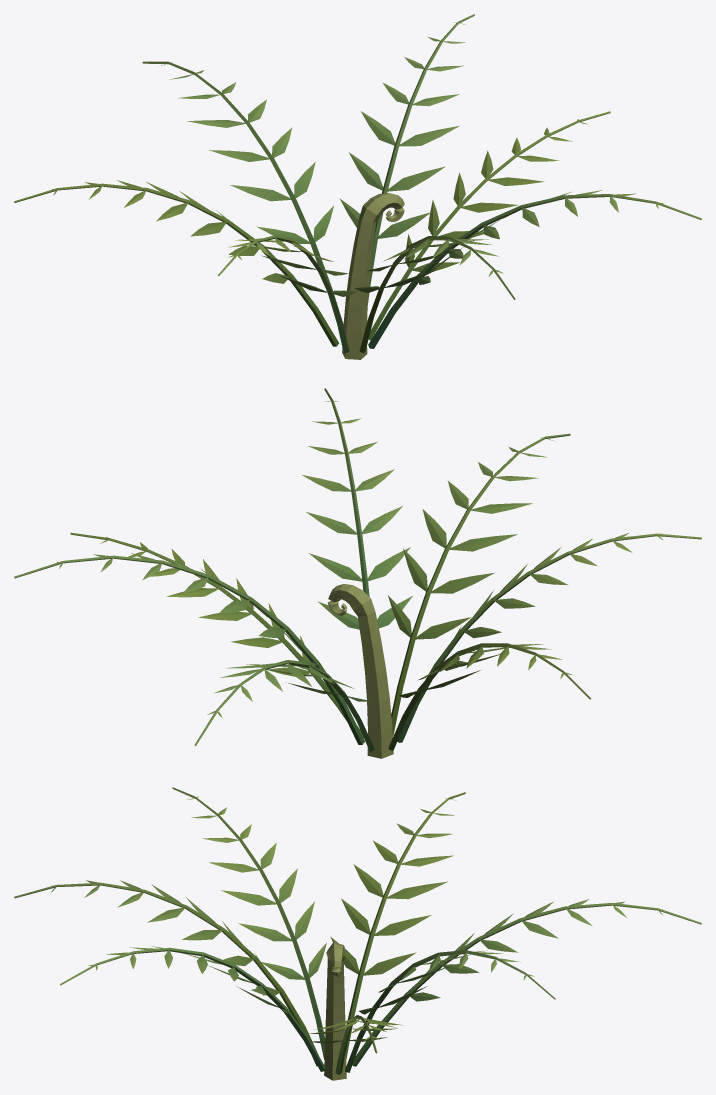
Rendered from ground_fern_c.glb.
3 views of the same model, one above another, from view 1: azimuth 30°, elevation 25°; view 2: azimuth 150°, elevation 25°; view 3: azimuth 270°, elevation 25° (orthographic). The views are drawn at different scales.
Visible parts, largest first — view 1: ground_fern_c; view 2: ground_fern_c; view 3: ground_fern_c.
Part boxes in pixels (box(x1,y1,x2,y2)): ground_fern_c: box(14, 14, 701, 359); ground_fern_c: box(14, 388, 701, 758); ground_fern_c: box(14, 787, 701, 1080).
Bounding box in the file's own units: 1.05 × 0.3859 × 1.22.
